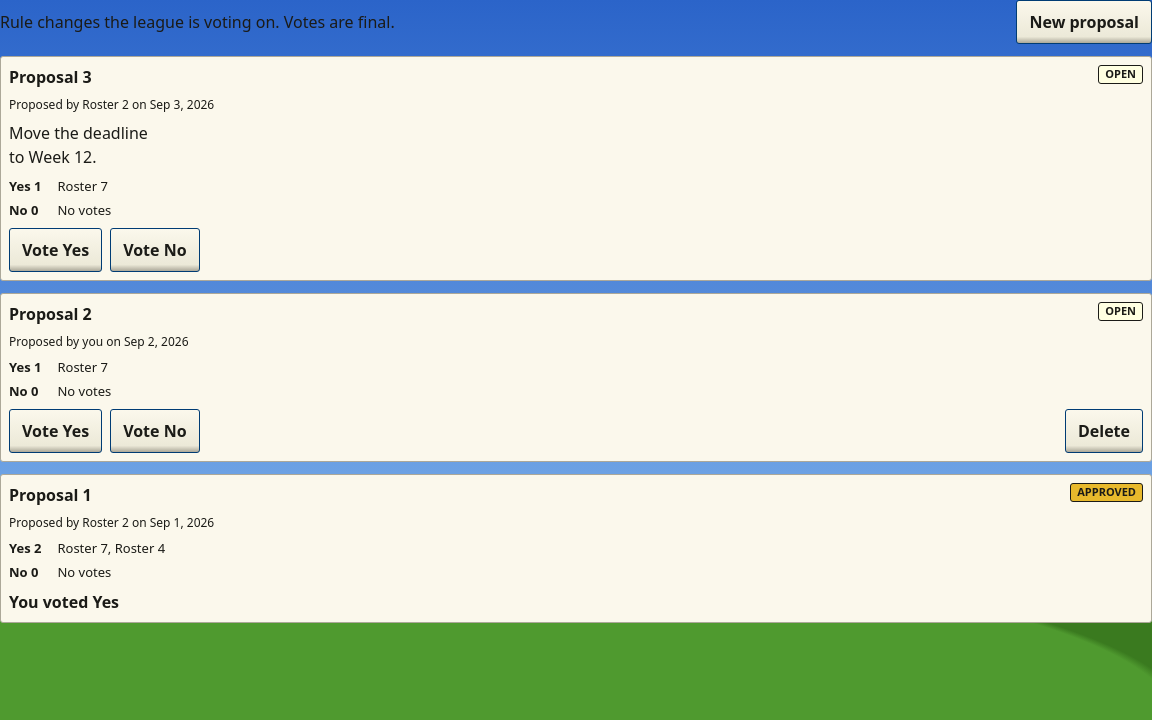
Test: Proposals › shows the API's refusal when a vote is no longer allowed
Click the button "Vote Yes" below "Move the deadline to Week 12.": (56, 250) 9,228 -> 102,272
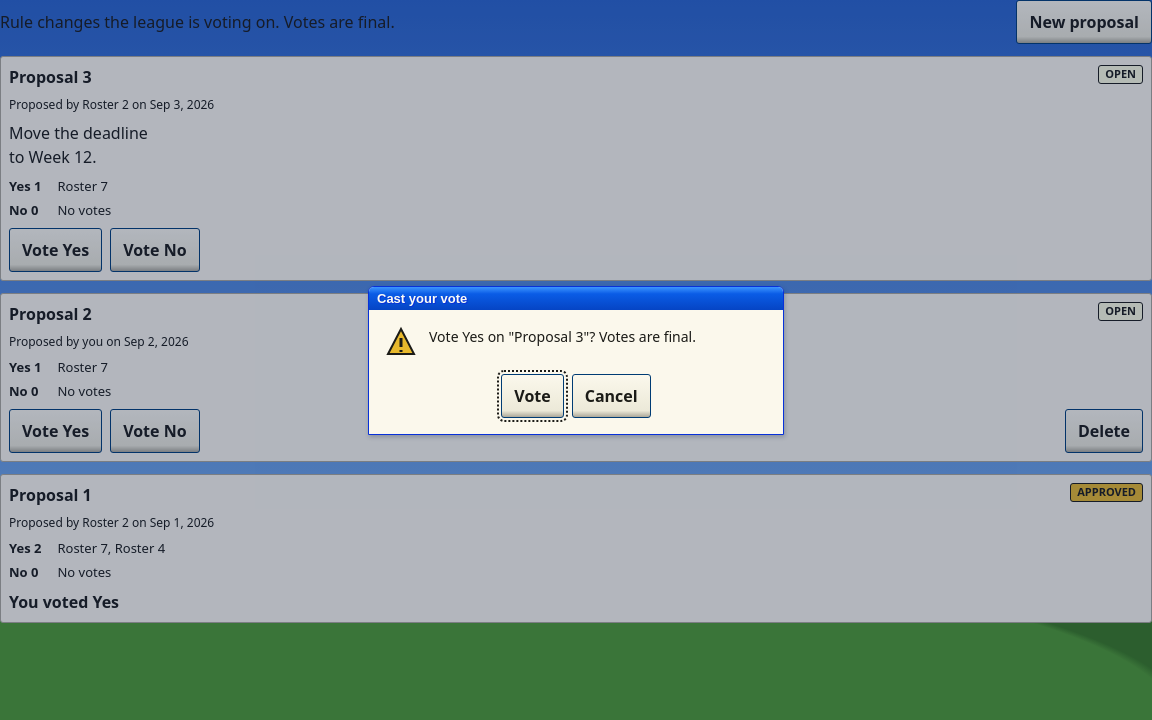
Click the button "Vote": (532, 396) 501,374 -> 564,418
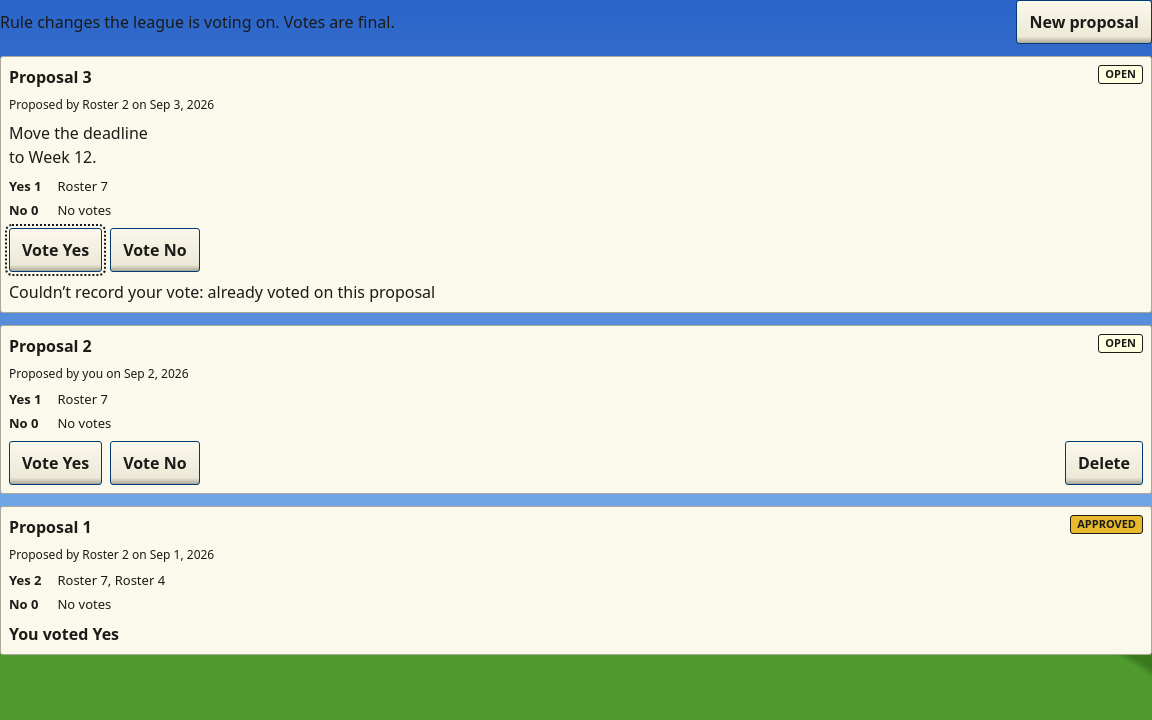
Now the message reads "Couldn’t record your vote: already voted on this proposal", box 9,281 -> 435,303
